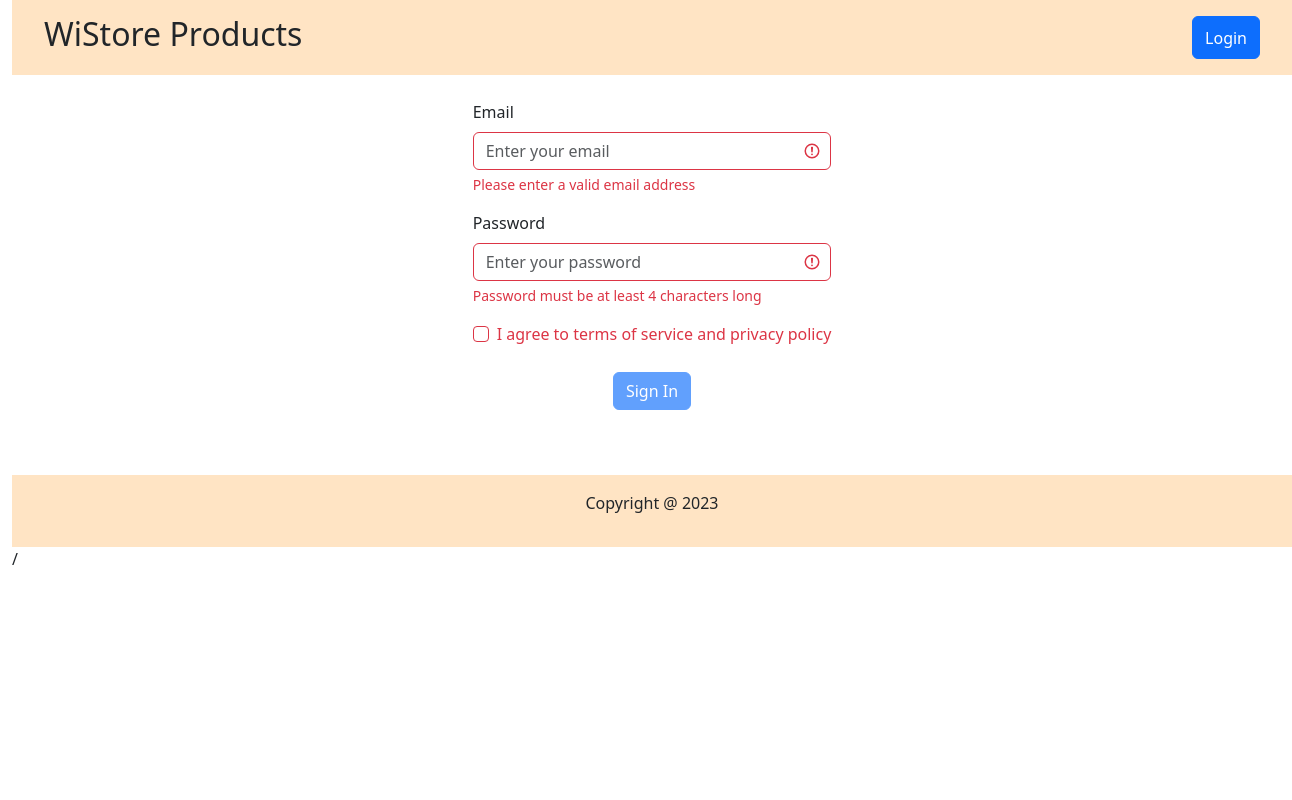
Email doğru doldurulunca hata mesajı ortadan kalkıyor
Click the button "Login" at (1226, 38), box [1192,16,1260,59]
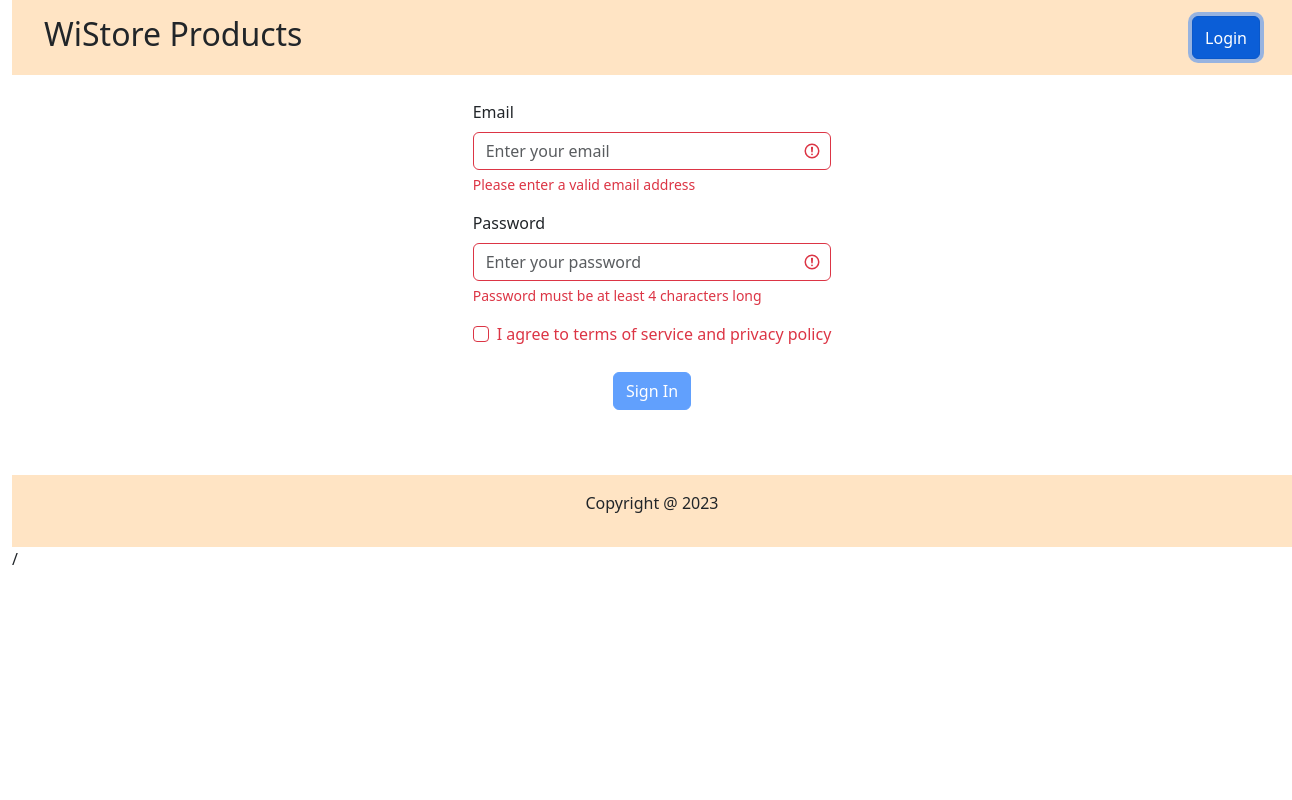
Type "erdem@wit" into the field with placeholder "Enter your email" at (652, 151), box [473,132,831,170]
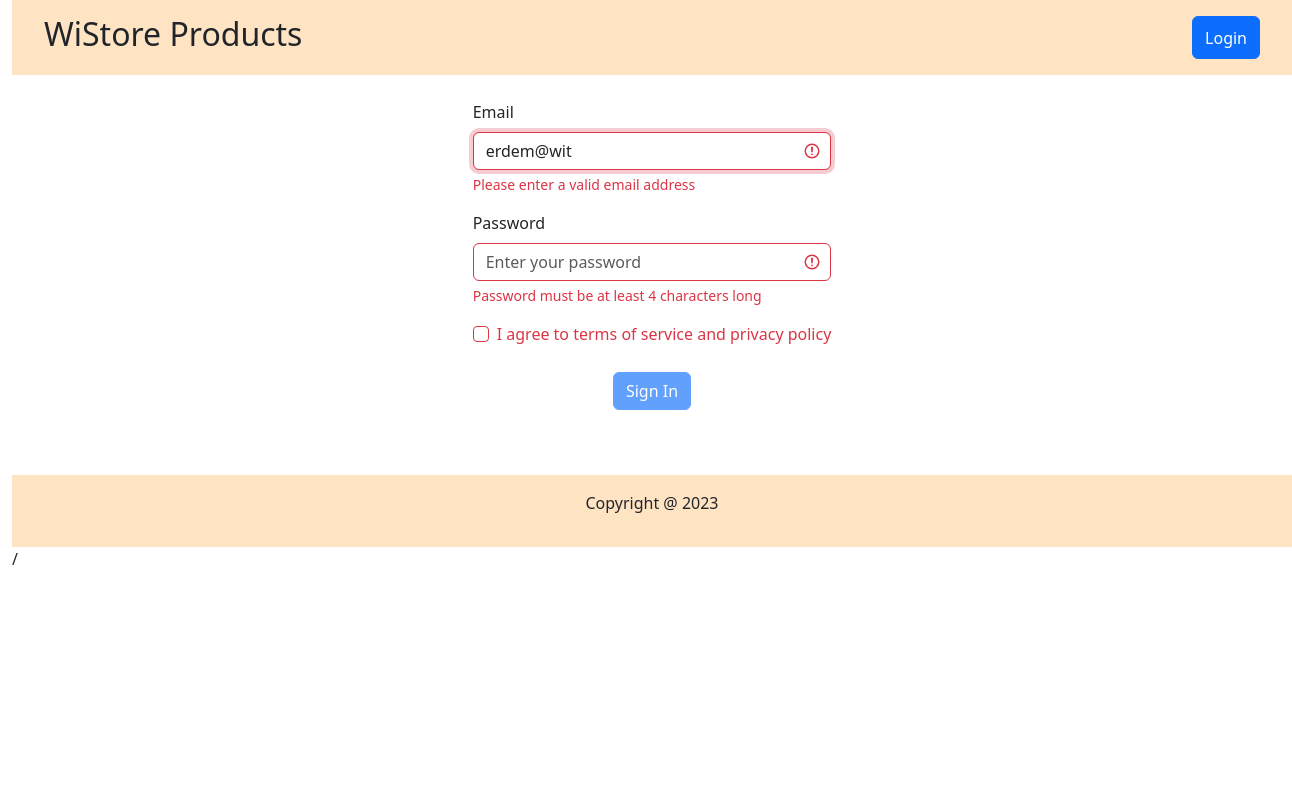
Type ".com.tr" into the field with placeholder "Enter your email" at (652, 151), box [473,132,831,170]
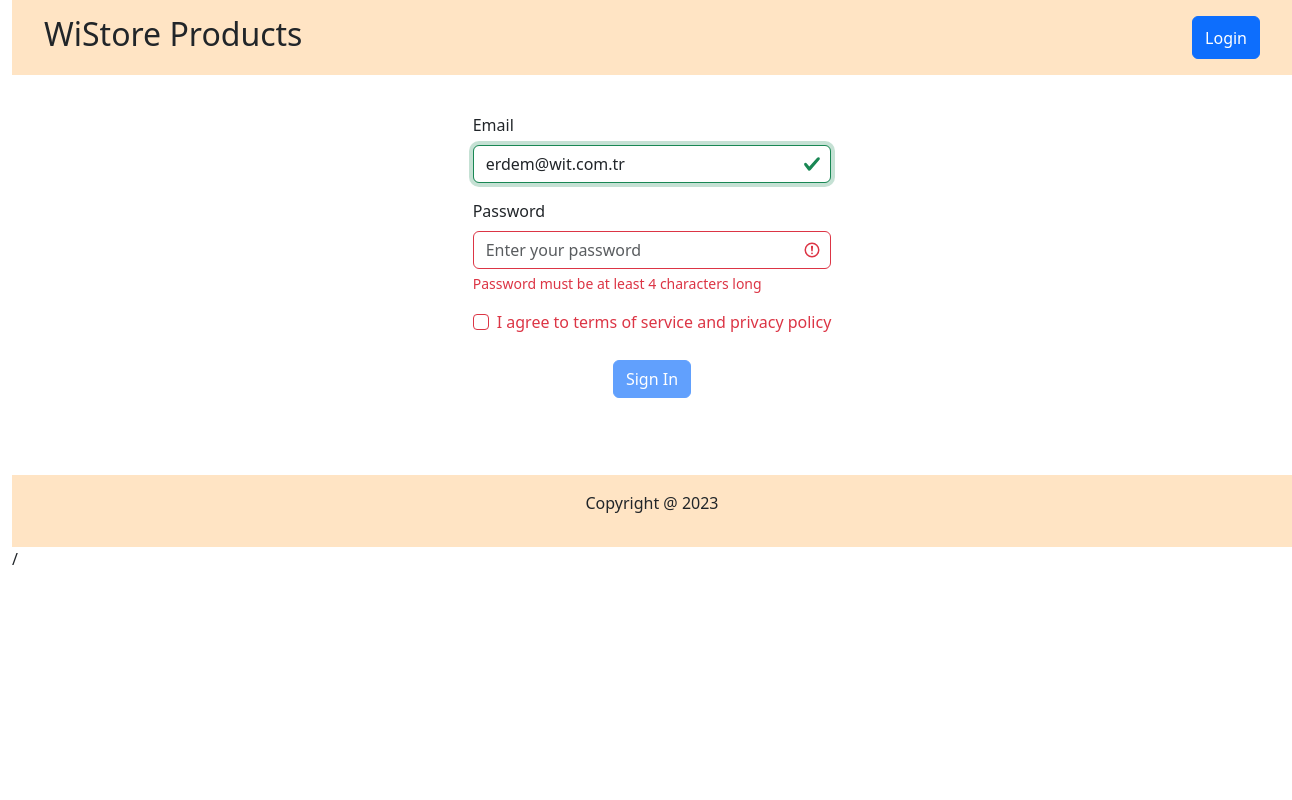
Result: the text "Please enter a valid email address" is gone
